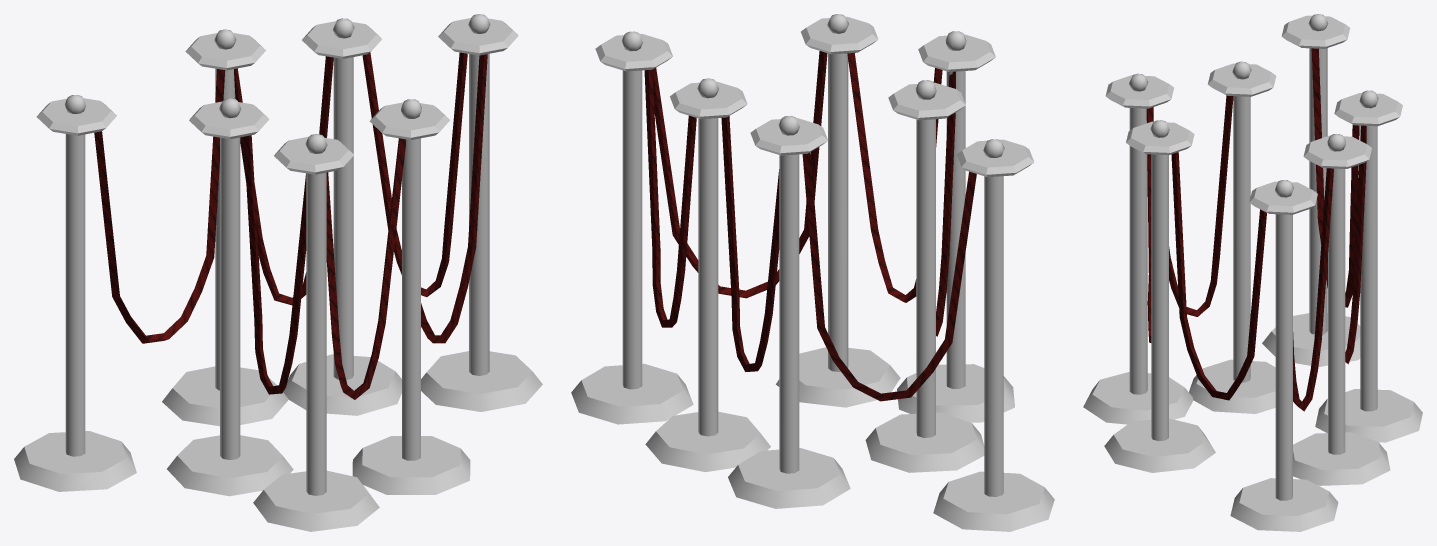
The model's file is Prop_Post_03.FBX.
3 views of the same model, side by side, from view 1: azimuth 30°, elevation 25°; view 2: azimuth 150°, elevation 25°; view 3: azimuth 270°, elevation 25° (orthographic). The views are drawn at different scales.
Visible parts, largest first — view 1: Prop_Post_03; view 2: Prop_Post_03; view 3: Prop_Post_03.
Part boxes in pixels (box(x1,y1,x2,y2)): Prop_Post_03: box(14, 14, 542, 531); Prop_Post_03: box(571, 14, 1054, 531); Prop_Post_03: box(1083, 14, 1422, 531).
Bounding box in the file's own units: 1.17 × 0.8426 × 0.7869.
